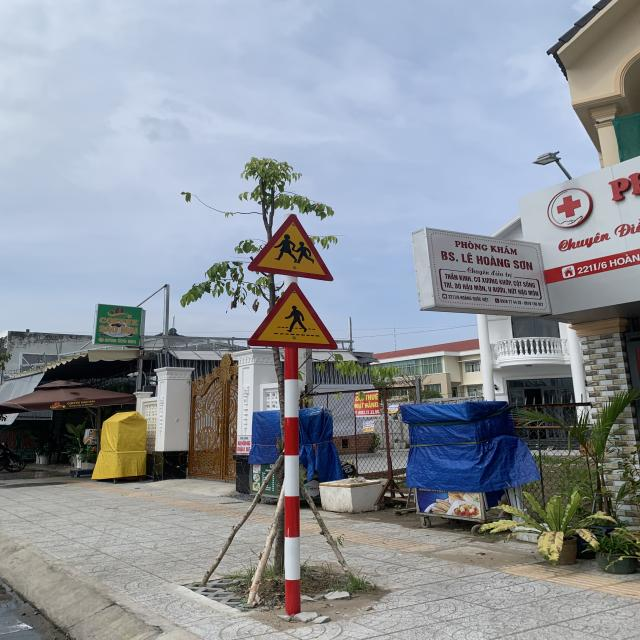Duong_Nguoi_Di_Bo_Sang_Ngang: (247, 282, 340, 351)
Vong_Xuyen: (249, 214, 334, 282)
